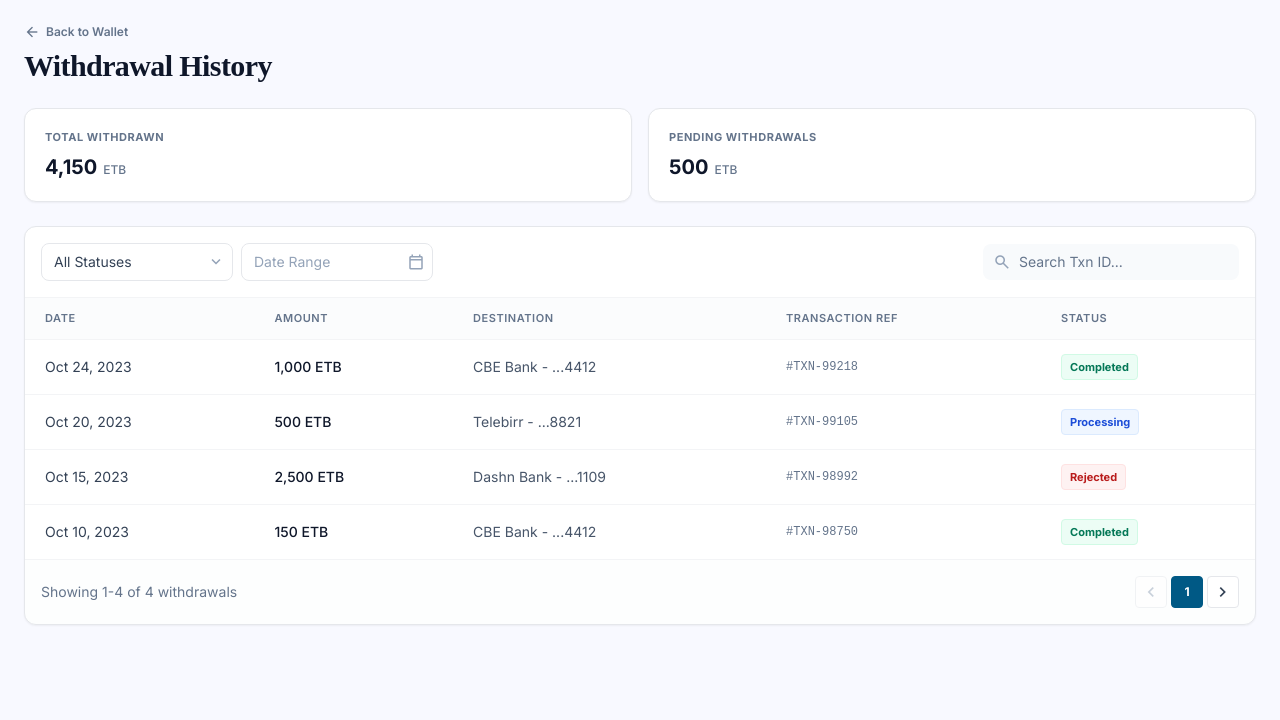
Test: Ethosk - Withdrawal History (Photo-Aligned) (Stitch Screen 260175667ecb434f97f9779c54370059) › filters transactions by search query
In the field with placeholder "Search Txn ID...": (1111, 262) [983,244,1239,280], type "98992"
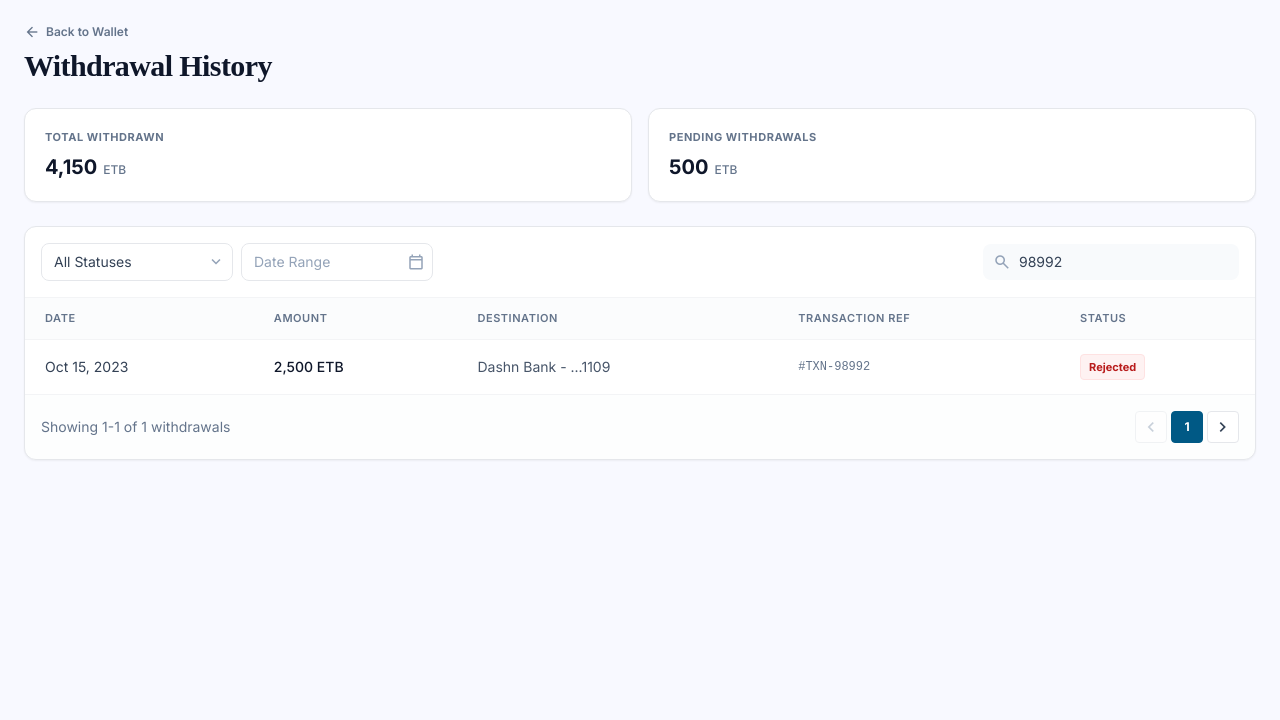
Now the text "#TXN-99218" is gone
